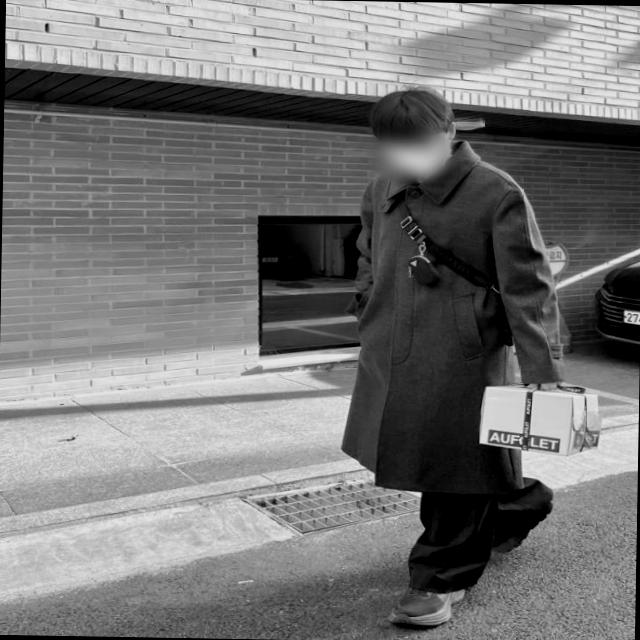coat: (342, 136, 570, 499)
slacks: (406, 476, 552, 596)
